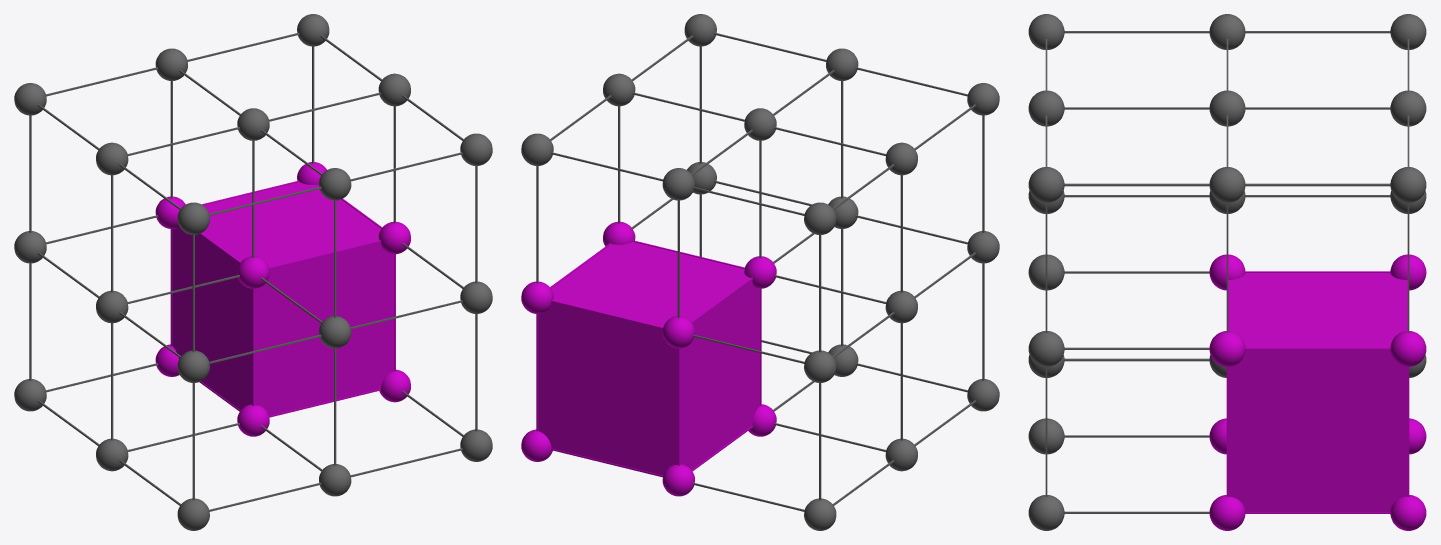
The model's file is celda_centrado.glb.
3 views of the same model, side by side, from view 1: azimuth 30°, elevation 25°; view 2: azimuth 150°, elevation 25°; view 3: azimuth 270°, elevation 25° (orthographic). The views are drawn at different scales.
Visible parts, largest first — view 1: arista55; view 2: arista55; view 3: arista55.
Part boxes in pixels (x1=…): arista55: x1=14, y1=14, x2=492, y2=530; arista55: x1=521, y1=14, x2=999, y2=530; arista55: x1=1028, y1=14, x2=1426, y2=530.
Size of the model in its own units: 2.2 by 2.2 by 2.2.
